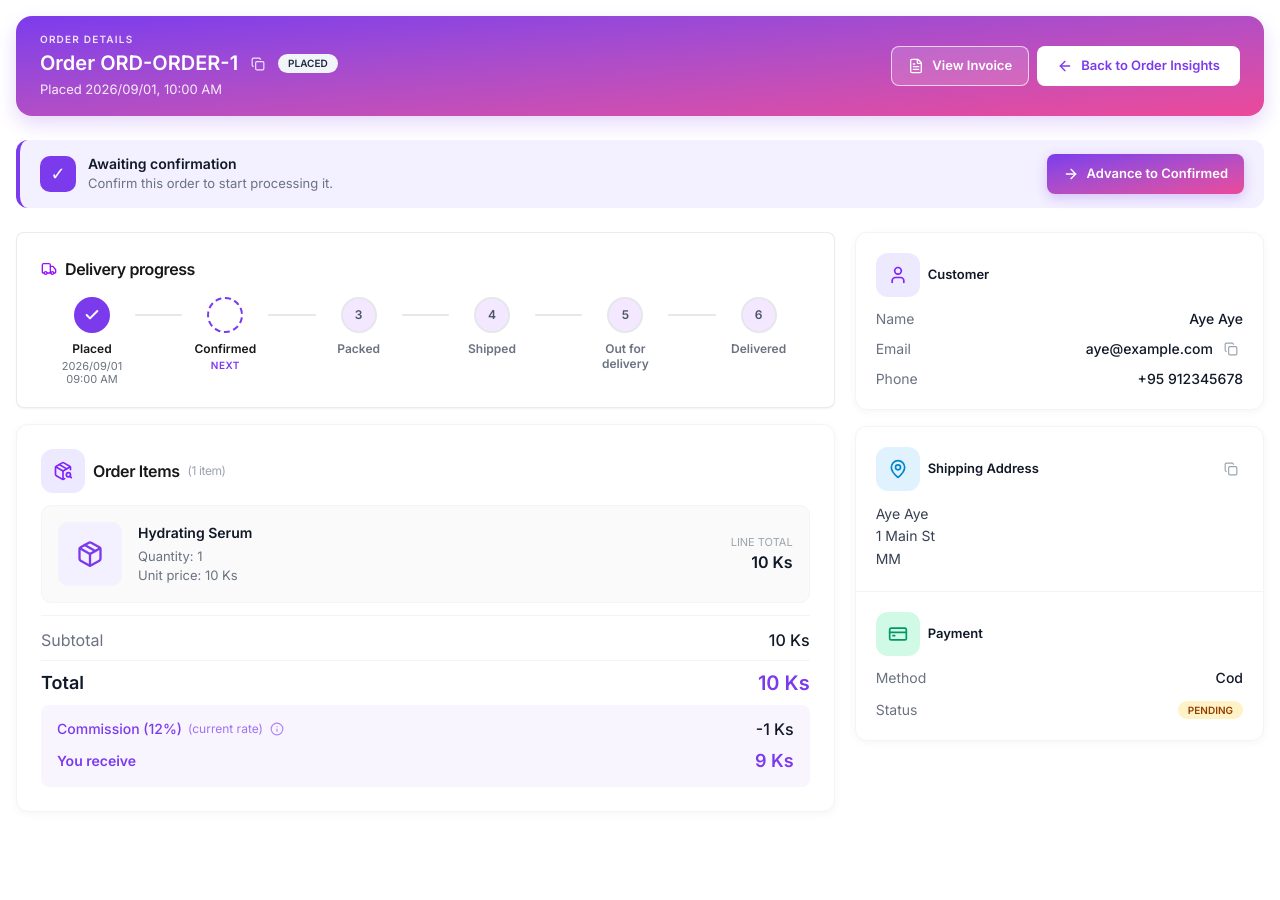
Scenario: MerchantOrderDetailPage › closes the invoice dialog on Escape and leaves the order untouched
This screenshot has width=1280, height=900.
Click the button "View Invoice".
click(960, 66)  # box [891,46,1029,86]
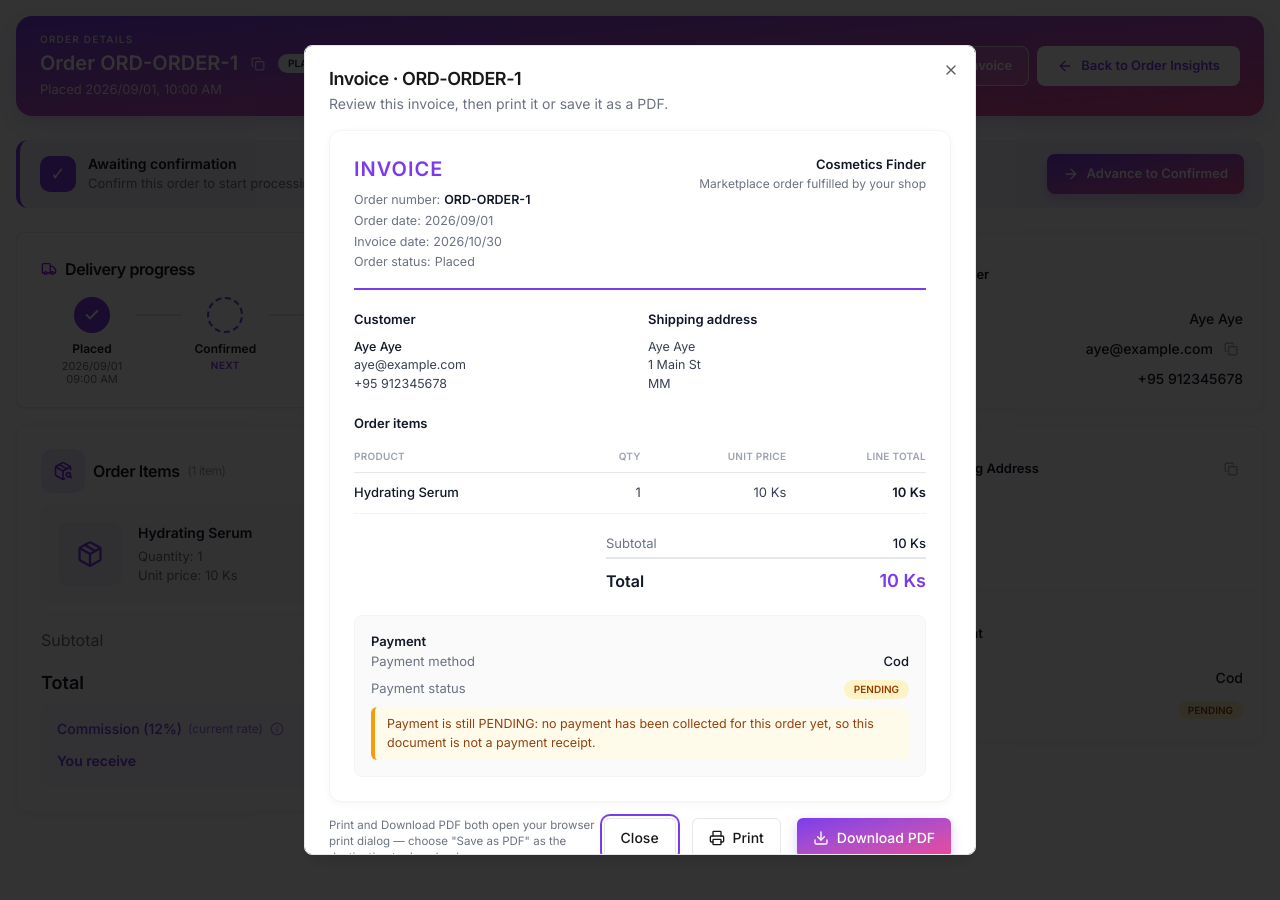
Check: the dialog is shown, box [304,45,976,855]
Press Escape
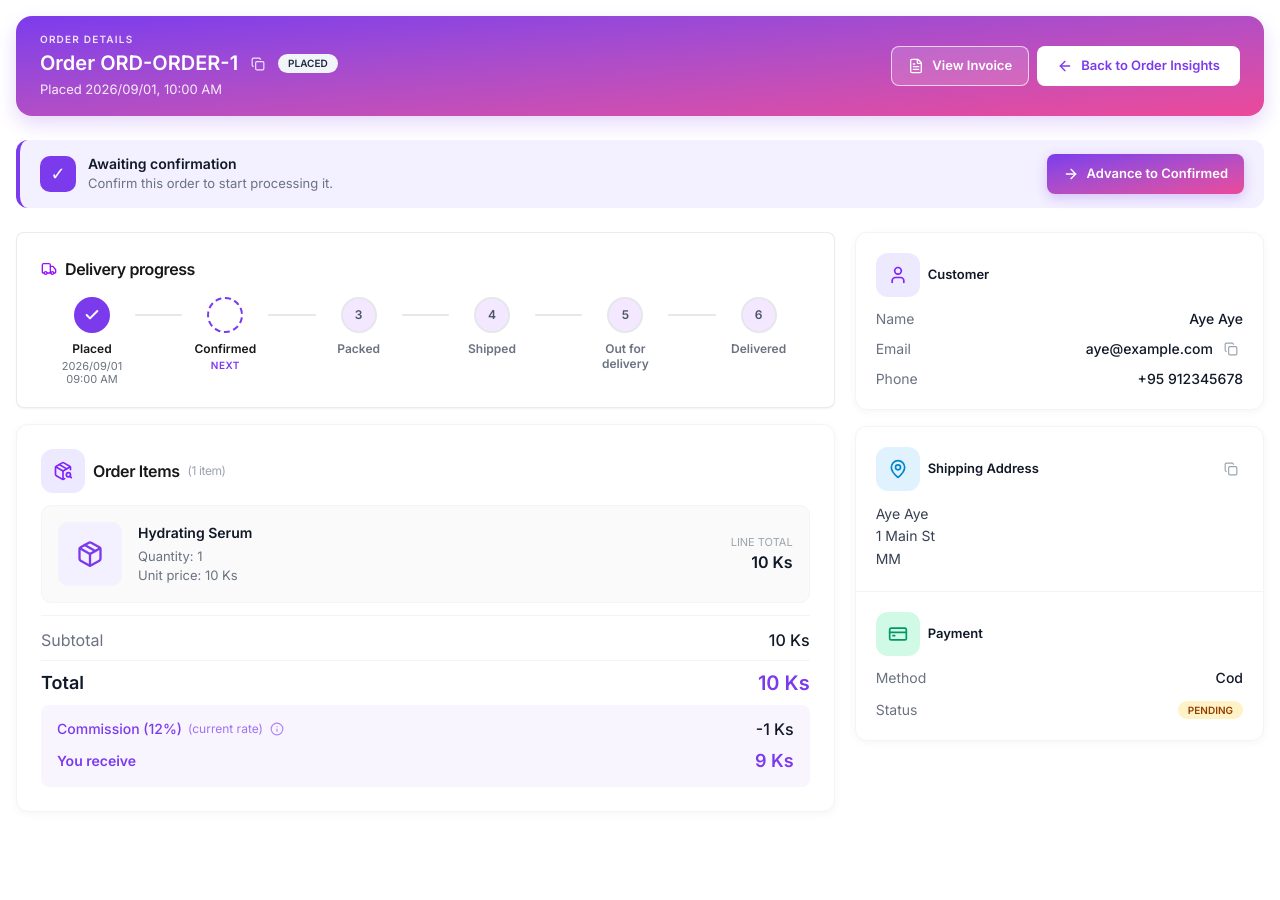
Check: the button "Advance to Confirmed" is shown, box [1047,154,1244,194]
Check: the dialog is gone
